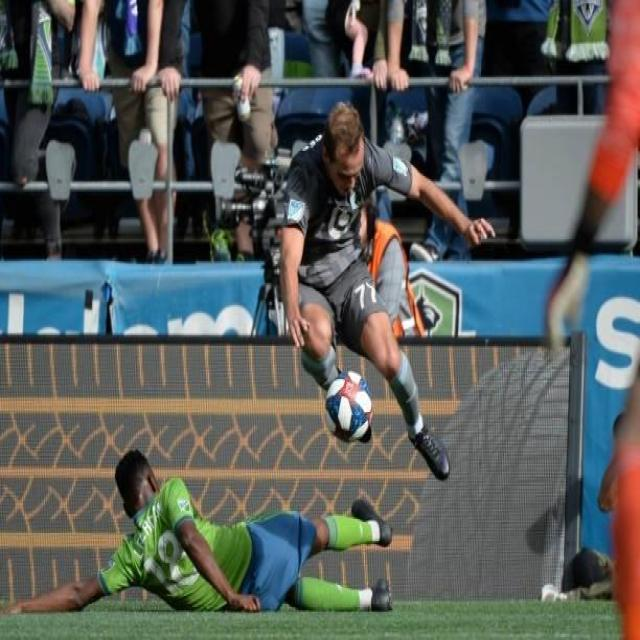ball: (316, 366, 377, 448)
player: (270, 105, 453, 502), (0, 456, 402, 618)
